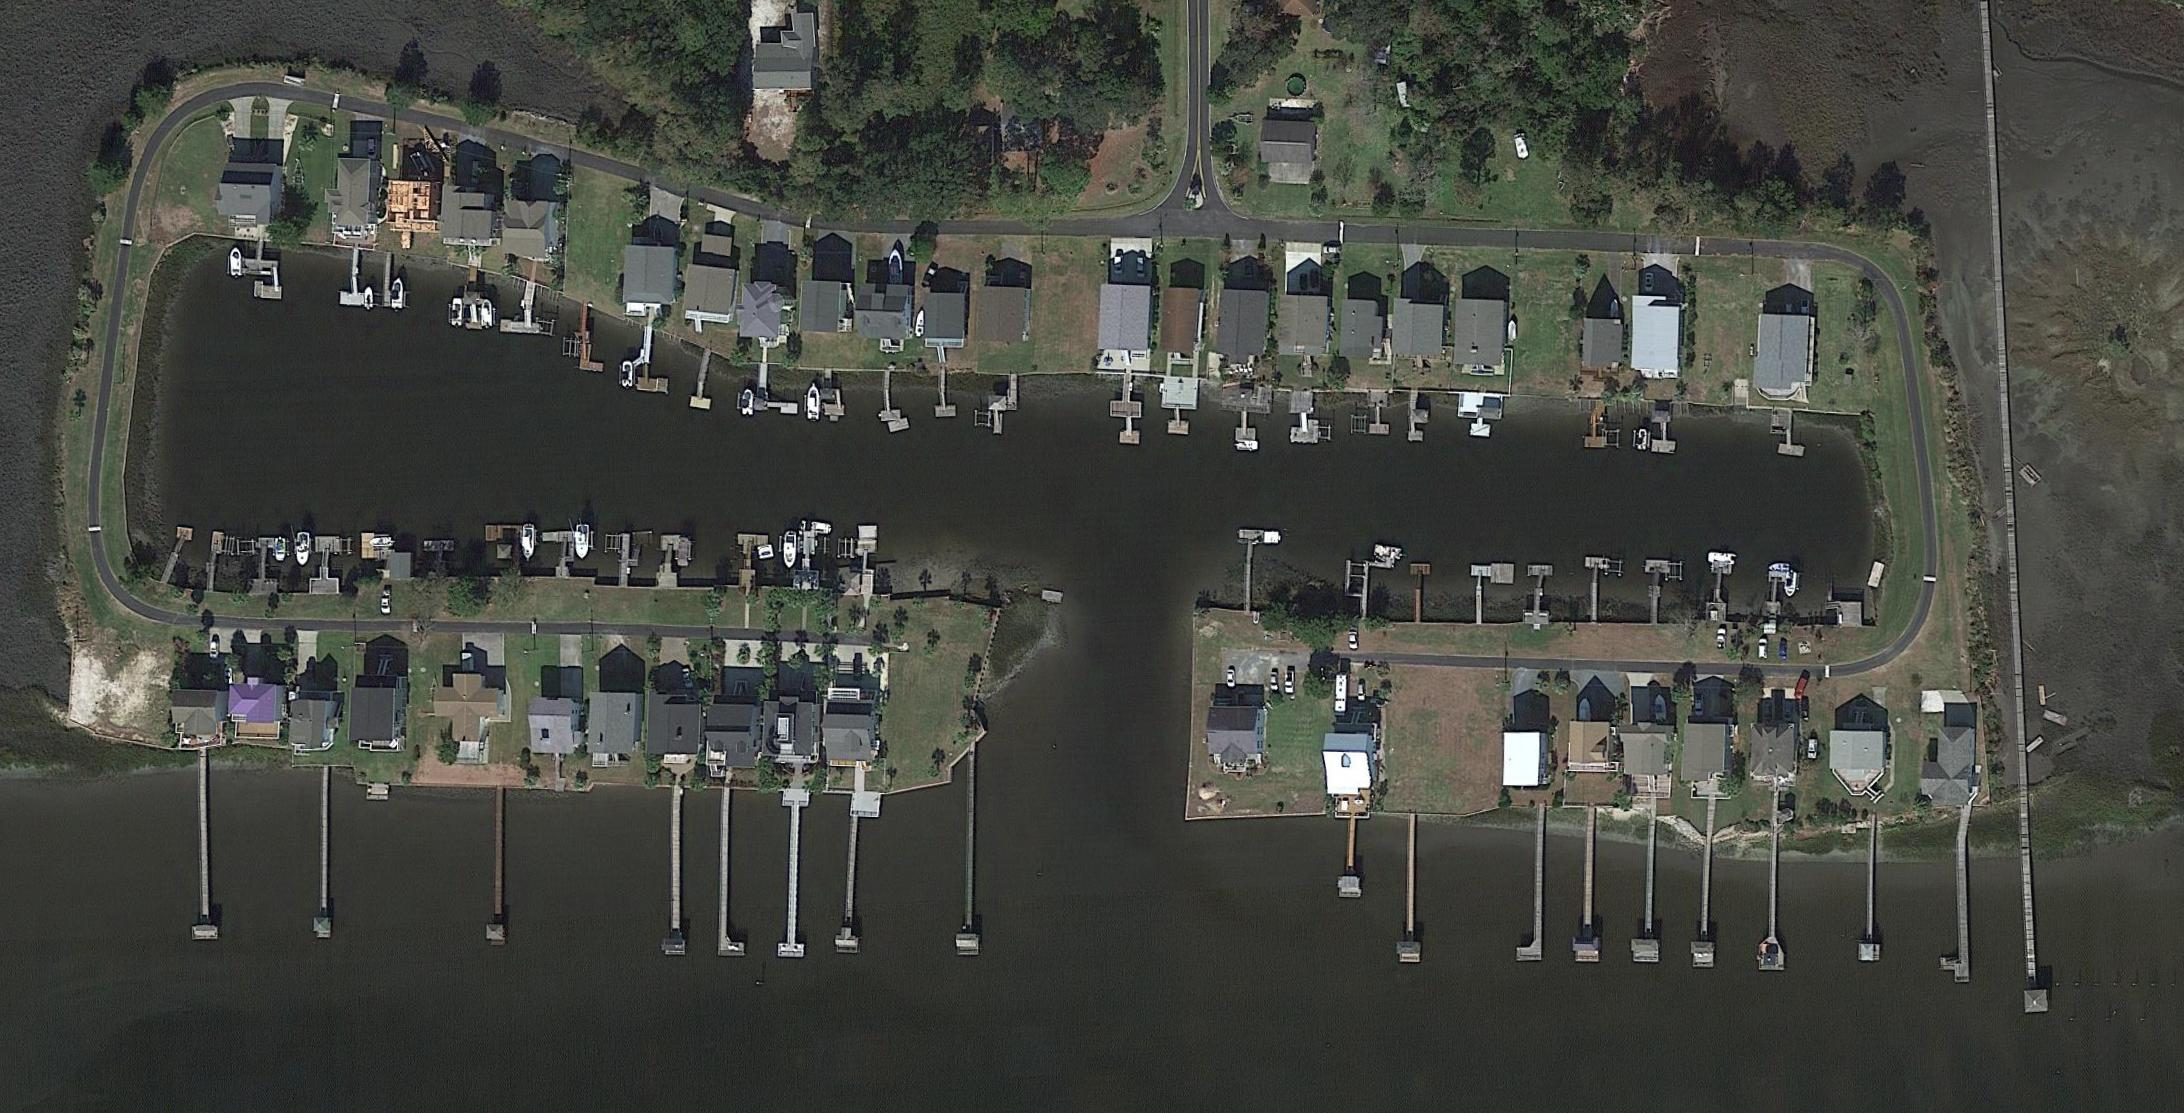harbor: (2015, 796, 2049, 1012), (957, 755, 984, 956), (1630, 816, 1666, 963), (1939, 829, 1973, 984), (1395, 815, 1429, 963), (1573, 812, 1605, 961), (779, 805, 810, 957), (719, 790, 747, 956), (835, 813, 868, 953), (193, 769, 219, 940), (1343, 546, 1402, 620), (1759, 832, 1790, 971), (1517, 818, 1546, 962), (1688, 845, 1721, 967), (662, 801, 686, 955), (1236, 530, 1281, 610), (1859, 827, 1885, 961), (314, 782, 335, 938), (485, 802, 507, 945), (1466, 563, 1514, 624), (240, 240, 287, 299), (155, 522, 197, 587), (1108, 375, 1144, 445), (501, 278, 545, 334), (754, 362, 800, 414), (638, 326, 672, 394), (1338, 818, 1365, 898), (486, 524, 524, 576), (579, 303, 606, 372), (1642, 560, 1671, 623), (620, 531, 652, 588), (989, 375, 1019, 434), (690, 351, 720, 410), (1704, 561, 1733, 622), (1523, 566, 1553, 624), (340, 248, 369, 308), (881, 372, 910, 432), (540, 531, 576, 578), (738, 533, 769, 587), (661, 536, 693, 588), (1585, 557, 1611, 620), (462, 268, 488, 329), (1407, 564, 1431, 623), (820, 369, 845, 423), (205, 531, 226, 593), (1779, 413, 1807, 457), (1407, 392, 1431, 441), (424, 540, 454, 578), (316, 537, 343, 579), (1764, 571, 1788, 618), (1585, 400, 1608, 448), (795, 532, 822, 571), (934, 374, 957, 418), (1161, 407, 1196, 435), (856, 526, 877, 572), (256, 538, 277, 581), (1651, 421, 1678, 454), (1292, 414, 1320, 444), (382, 252, 396, 308), (1367, 407, 1391, 434), (1237, 411, 1257, 442), (1471, 417, 1492, 437)
ship: (799, 517, 834, 540), (781, 531, 799, 568), (804, 386, 821, 421), (1513, 130, 1531, 161), (576, 524, 592, 558), (888, 249, 903, 285), (296, 532, 310, 567), (449, 297, 464, 327), (272, 536, 288, 563), (1709, 550, 1739, 564), (740, 387, 754, 416), (229, 246, 242, 277), (1579, 696, 1591, 729), (391, 278, 404, 307), (480, 298, 493, 326), (621, 360, 634, 388), (523, 526, 534, 559), (1786, 571, 1799, 598), (915, 309, 927, 338), (368, 536, 395, 548), (1655, 694, 1666, 722), (1637, 429, 1649, 453), (363, 283, 374, 309), (1236, 441, 1260, 452), (1768, 563, 1790, 571)
